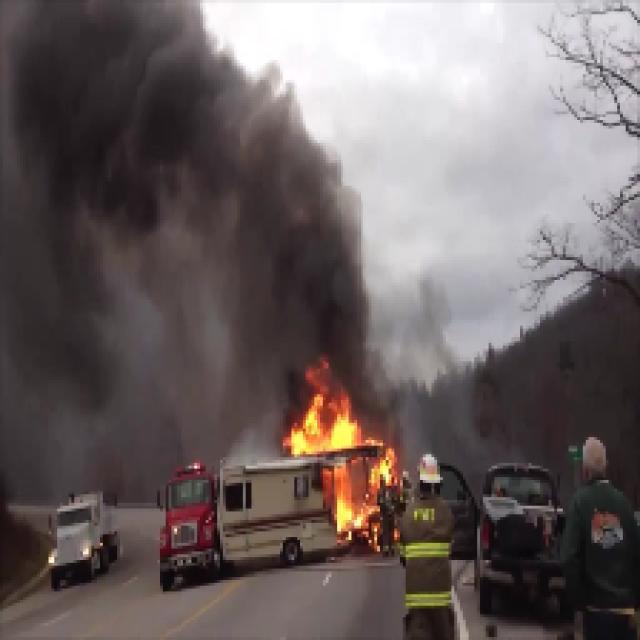Fire: (293, 385, 401, 542)
Smoke: (2, 2, 210, 434), (212, 52, 372, 354)
